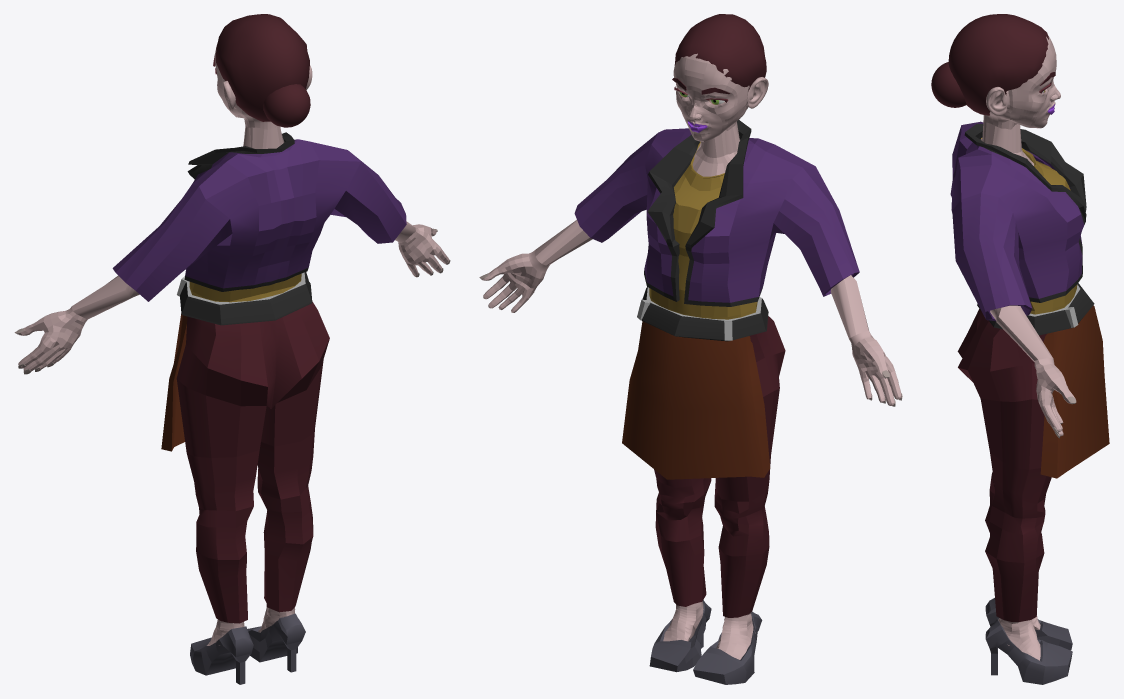
The model's file is Bartender 2.fbx.
3 renders of one model, left to right at view 1: azimuth 30°, elevation 25°; view 2: azimuth 150°, elevation 25°; view 3: azimuth 270°, elevation 25°, orthographic. The views are drawn at different scales.
Parts seen in each view (by area): view 1: Pants, Jacket, polySurface5, Hair, Apron, L_Shoe, R_Shoe, HairPun, Shirt; view 2: Jacket, Apron, polySurface5, Pants, Hair, Shirt, L_Shoe, R_Shoe; view 3: Jacket, Pants, Apron, polySurface5, Hair, R_Shoe, Shirt, HairPun, L_Shoe.
Boxes of the visible parts, <box> form: Pants: <box>176,301,329,623</box>; Jacket: <box>112,132,406,301</box>; polySurface5: <box>14,43,450,645</box>; Hair: <box>215,14,309,121</box>; Apron: <box>161,272,312,451</box>; L_Shoe: <box>190,626,253,684</box>; R_Shoe: <box>247,613,305,672</box>; HairPun: <box>263,84,310,127</box>; Shirt: <box>189,273,301,302</box>; Jacket: <box>574,120,859,306</box>; Apron: <box>622,287,770,479</box>; polySurface5: <box>479,53,902,659</box>; Pants: <box>654,316,785,617</box>; Hair: <box>674,14,766,91</box>; Shirt: <box>649,141,757,319</box>; L_Shoe: <box>693,611,762,684</box>; R_Shoe: <box>649,600,711,672</box>; Jacket: <box>950,121,1086,321</box>; Pants: <box>957,309,1051,622</box>; Apron: <box>977,283,1109,478</box>; polySurface5: <box>980,35,1076,660</box>; Hair: <box>948,14,1048,115</box>; R_Shoe: <box>985,618,1072,684</box>; Shirt: <box>981,138,1077,314</box>; HairPun: <box>931,62,966,107</box>; L_Shoe: <box>985,598,1072,650</box>.
Size of the model in its own units: 7.41 by 10.77 by 2.7.
